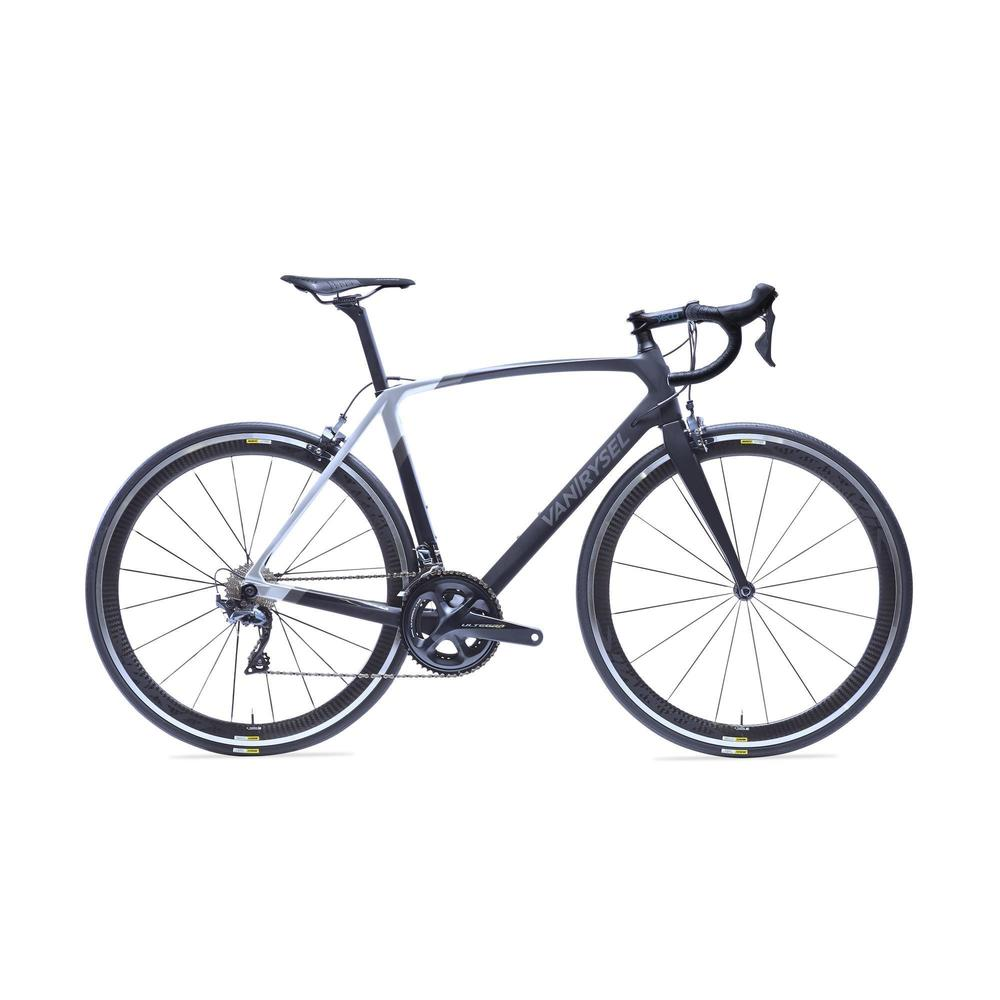RoadBike: (90, 284, 925, 765)
